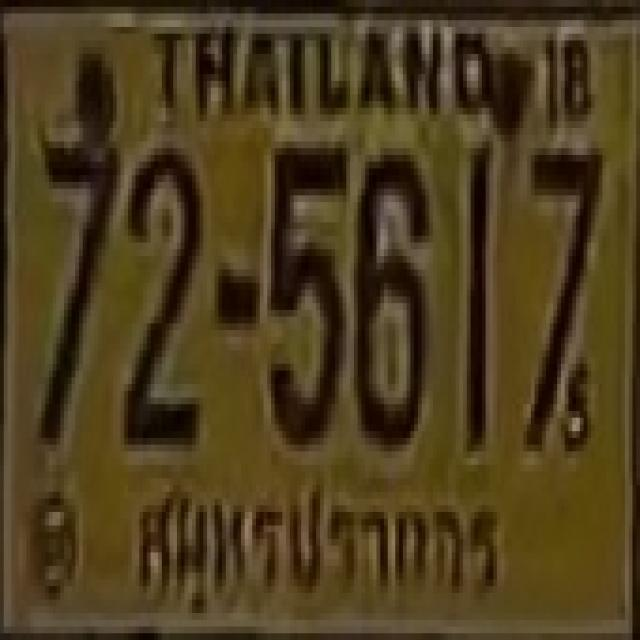1: (465, 142, 487, 444)
2: (122, 142, 198, 444)
5: (267, 141, 343, 438)
6: (354, 148, 425, 445)
7: (38, 132, 116, 442), (523, 142, 599, 444)
SPK: (130, 468, 513, 623)
